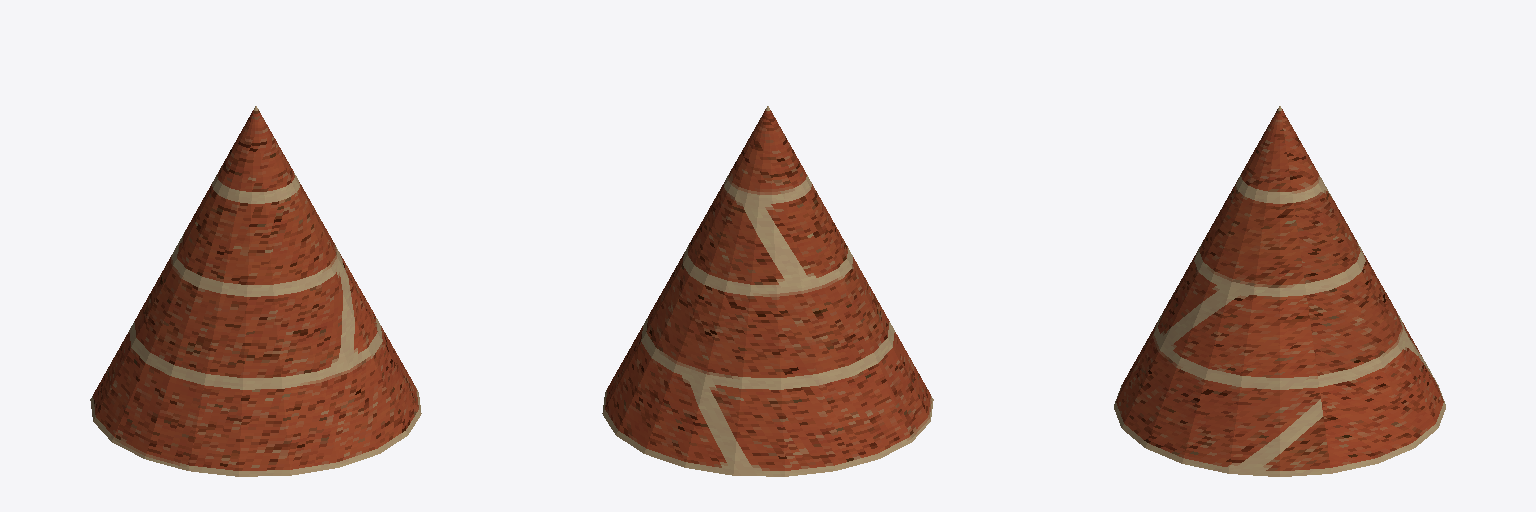
3 renders of one model, left to right at view 1: azimuth 30°, elevation 25°; view 2: azimuth 150°, elevation 25°; view 3: azimuth 270°, elevation 25°, orthographic.
Parts seen in each view (by area): view 1: pCone1; view 2: pCone1; view 3: pCone1.
Part boxes in pixels (left/top/right/bottom): pCone1: left=90, top=106, right=421, bottom=476; pCone1: left=602, top=106, right=933, bottom=476; pCone1: left=1114, top=106, right=1445, bottom=476.
Bounding box in the file's own units: 2 × 2 × 2.
1 materials, 1 textured.